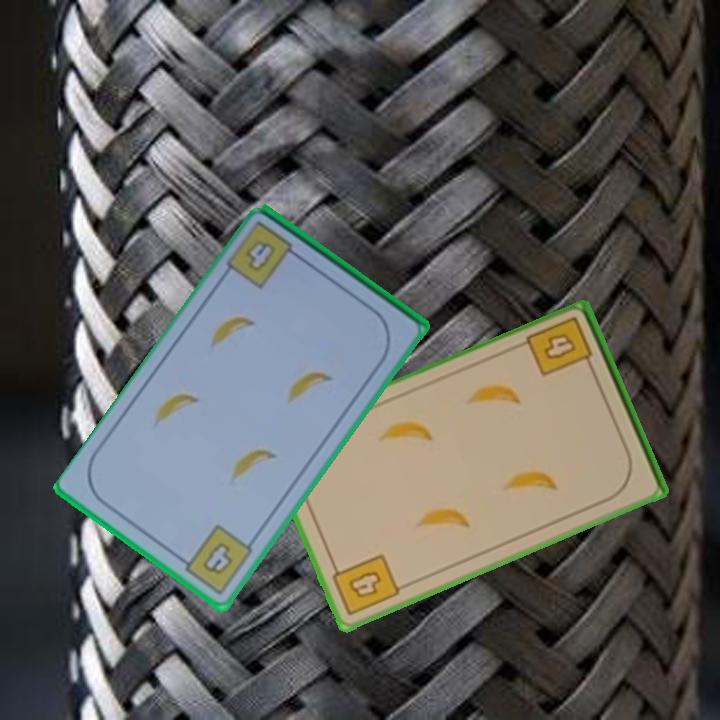4b: (174, 521, 257, 598), (327, 550, 403, 619), (523, 313, 597, 380), (242, 236, 279, 276)
